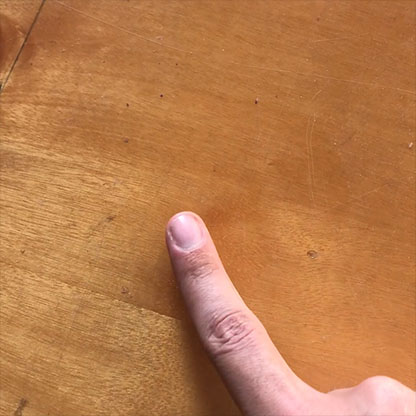fingertip: (156, 203, 221, 264)
